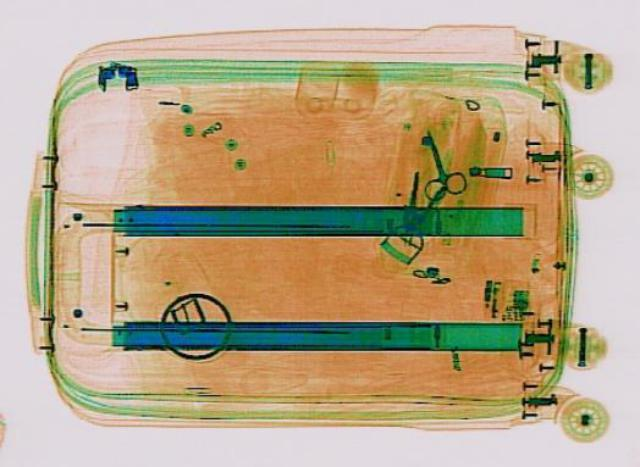Scissors: (400, 126, 470, 200)
